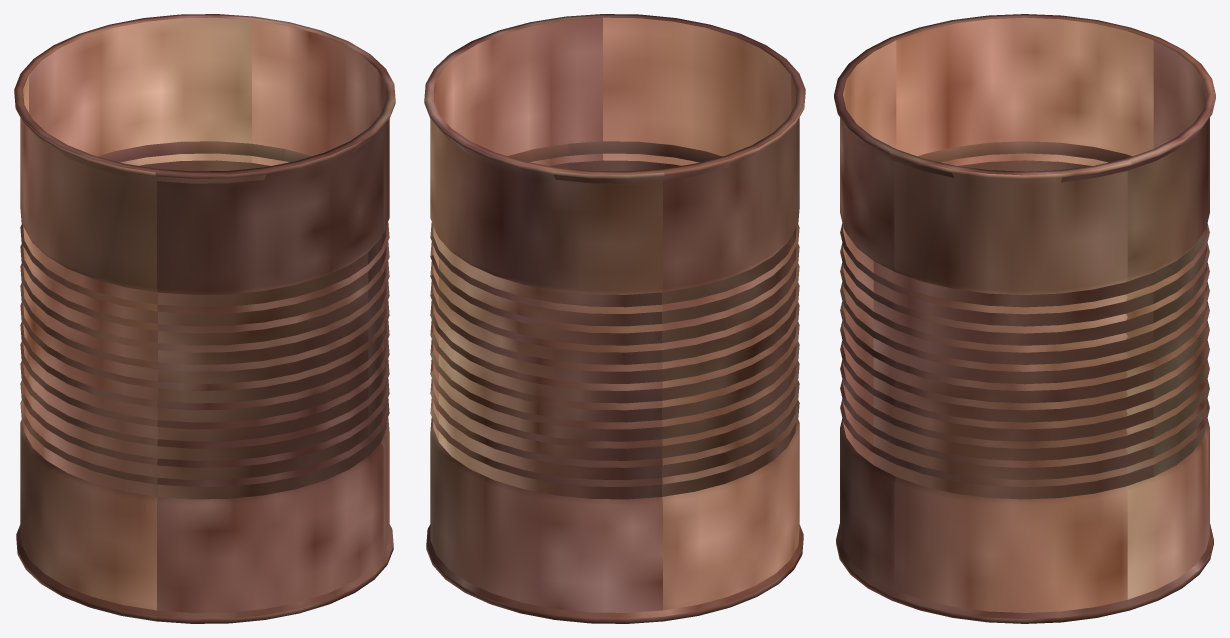
The model's file is TinCan.fbx.
3 views of the same model, side by side, from view 1: azimuth 30°, elevation 25°; view 2: azimuth 150°, elevation 25°; view 3: azimuth 270°, elevation 25° (orthographic).
Parts seen in each view (by area): view 1: Rusty CAn; view 2: Rusty CAn; view 3: Rusty CAn.
Part boxes in pixels (<box>): Rusty CAn: <box>14,14,395,623</box>; Rusty CAn: <box>424,14,805,623</box>; Rusty CAn: <box>834,14,1215,623</box>.
Bounding box in the file's own units: 207 × 268 × 207.
